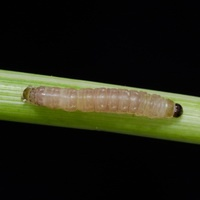insect: (22, 86, 182, 117)
